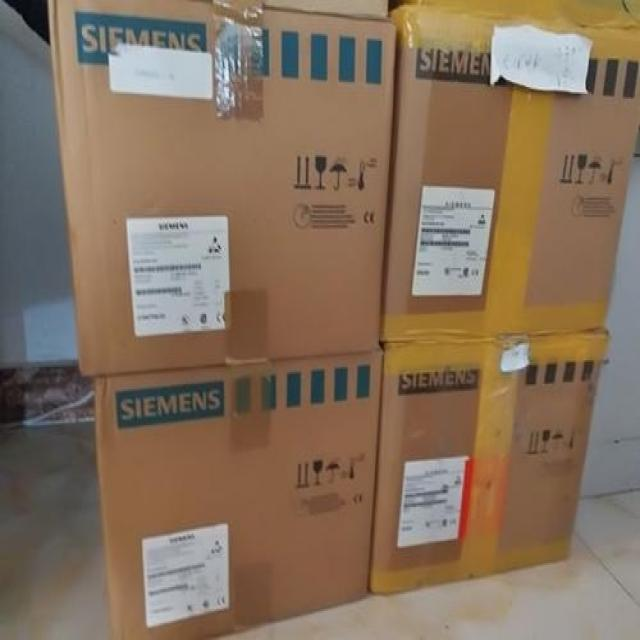box: (47, 0, 397, 377), (380, 0, 640, 340), (95, 352, 384, 640), (367, 333, 608, 594)
